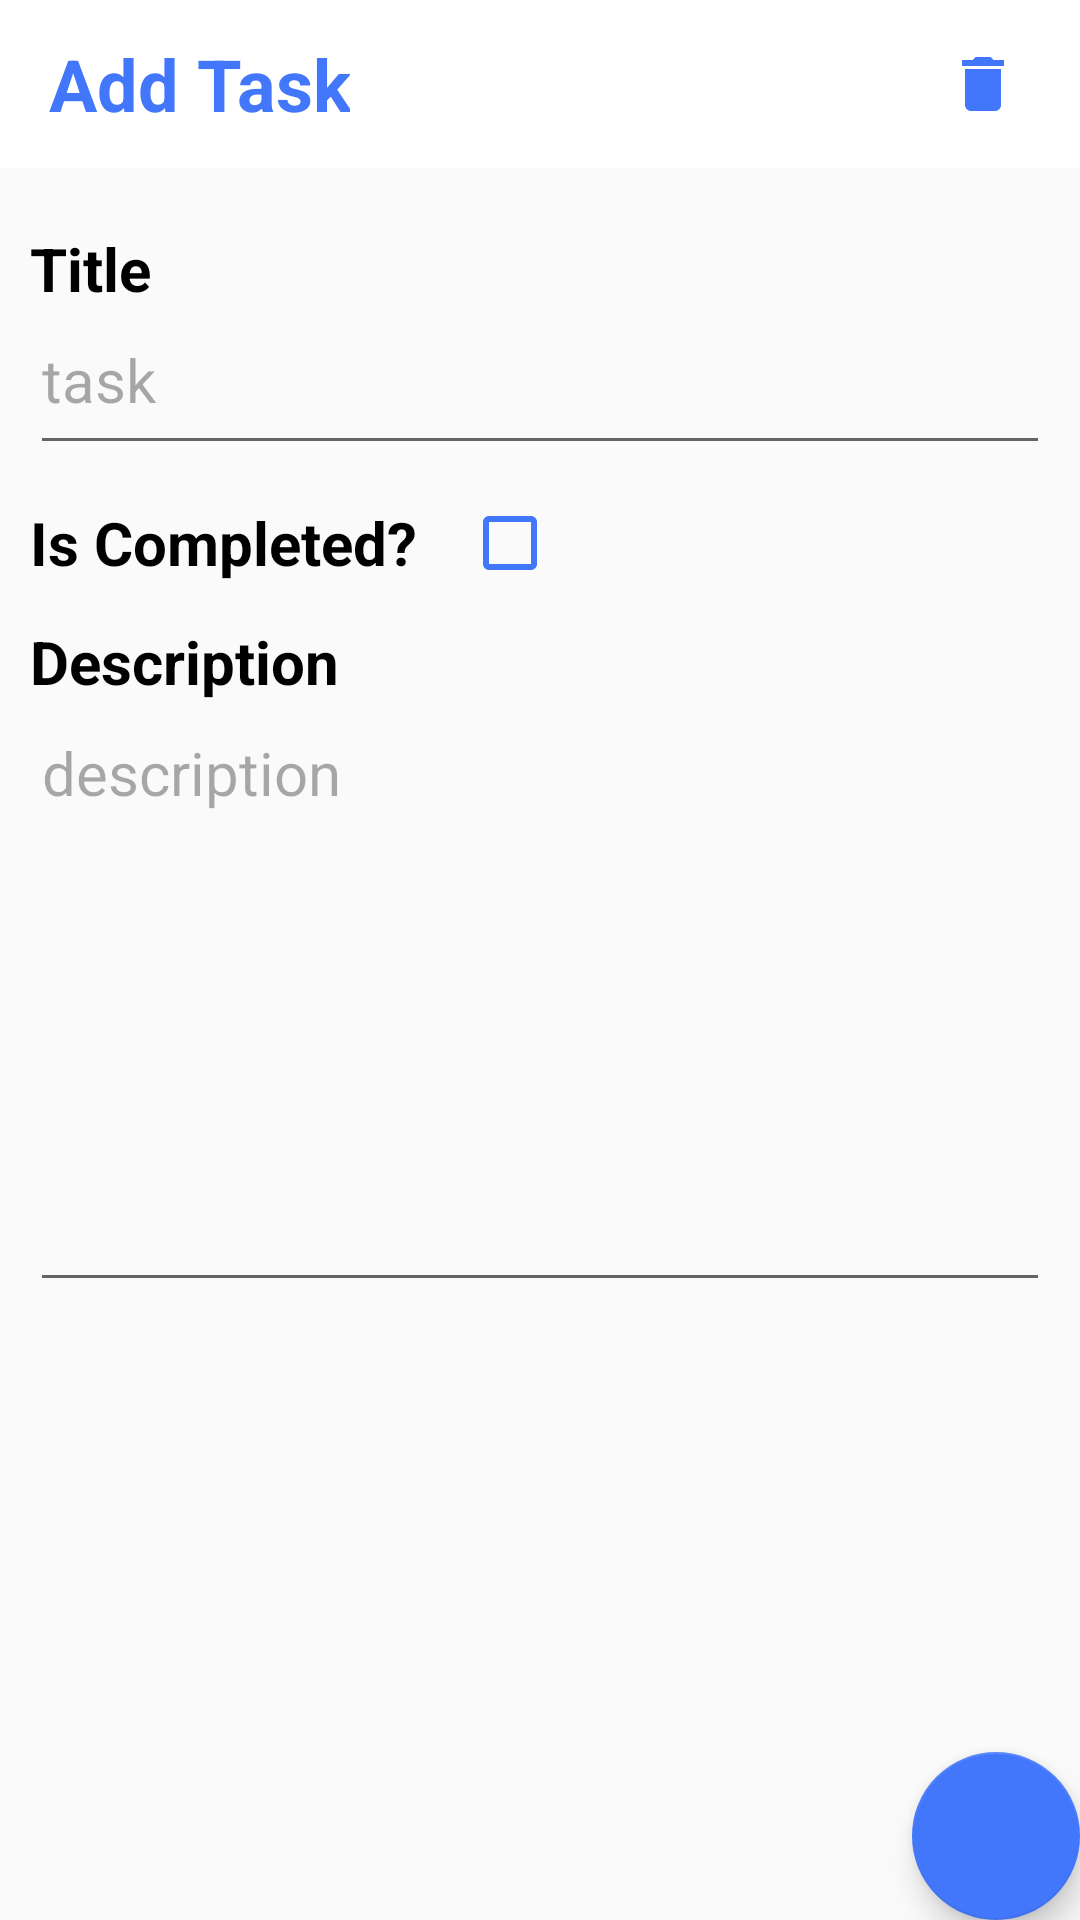

Icon click points for this 1080×1920 phone screenshot, format point (x, y):
delete: point (983, 84)
